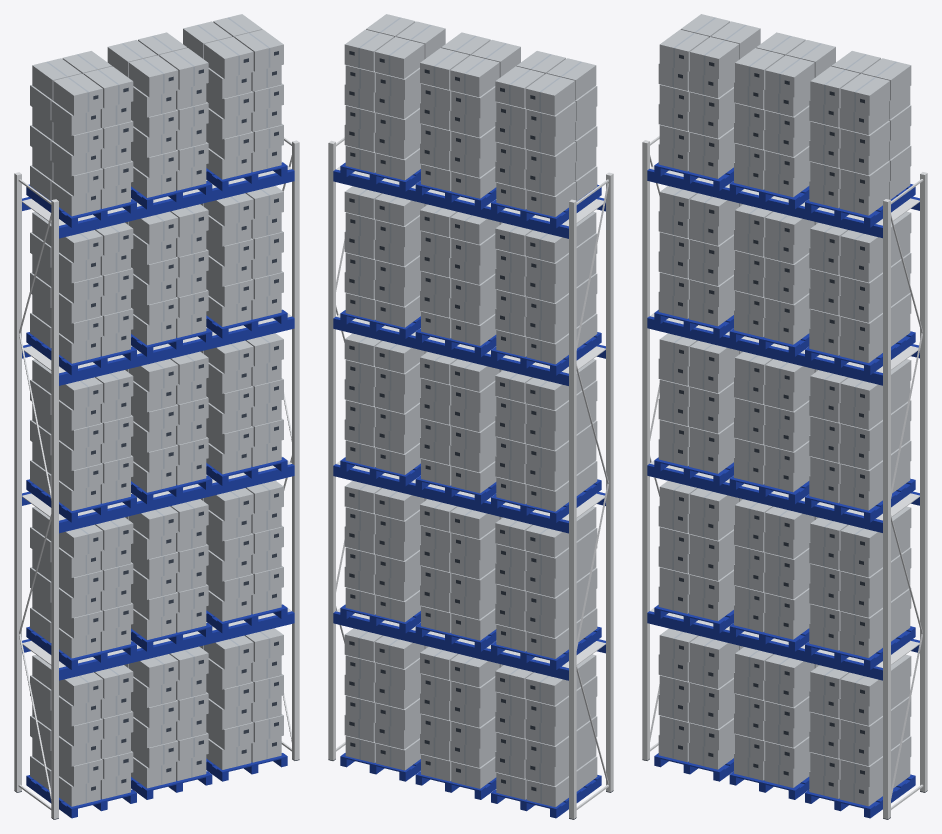
The model's file is SM_MPR_CADRack_F5_W144_Standard_LOD1.fbx.
The picture shows the model from 3 angles, left to right: view 1: azimuth 30°, elevation 25°; view 2: azimuth 150°, elevation 25°; view 3: azimuth 330°, elevation 25°; orthographic projection.
Visible parts, largest first — view 1: SM_MPR_CADRack_F5_W144_Standard_LOD1; view 2: SM_MPR_CADRack_F5_W144_Standard_LOD1; view 3: SM_MPR_CADRack_F5_W144_Standard_LOD1.
Part boxes in pixels (x1,y1,x2,y2): SM_MPR_CADRack_F5_W144_Standard_LOD1: [14, 14, 299, 819]; SM_MPR_CADRack_F5_W144_Standard_LOD1: [328, 14, 613, 819]; SM_MPR_CADRack_F5_W144_Standard_LOD1: [642, 14, 927, 819].
Bounding box in the file's own units: 381 × 122 × 1068.
